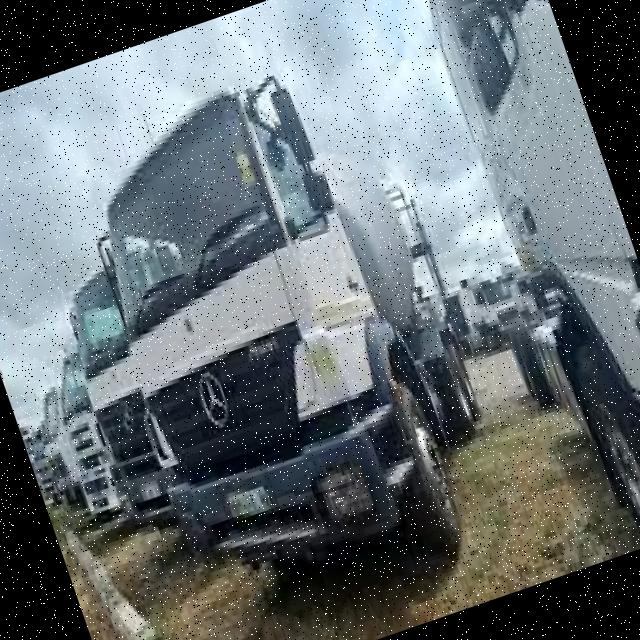Mixer Truck: (41, 31, 532, 640), (46, 236, 265, 547)
